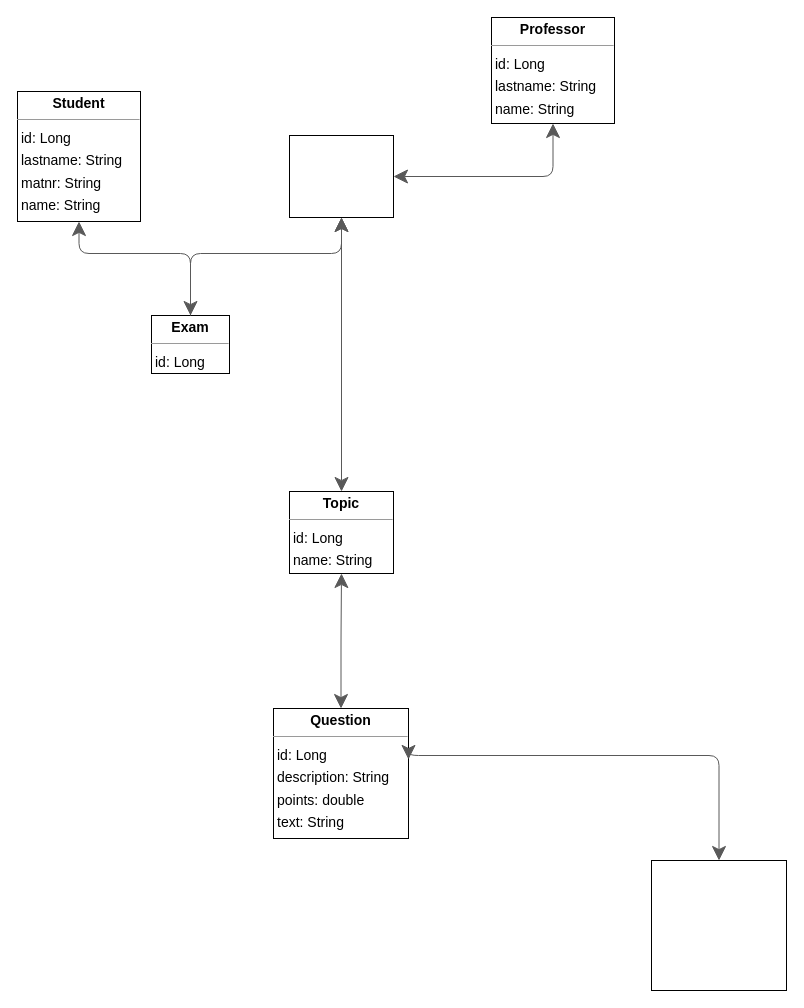
The diagram is 804 pixels wide and 1008 high, and some of its shapes have lost their labels. Each missing label, with the box of its shape:
Criteria id: Long description: String name: String weight: double: (650, 860, 786, 990)
Subject id: Long name: String: (288, 134, 394, 218)
